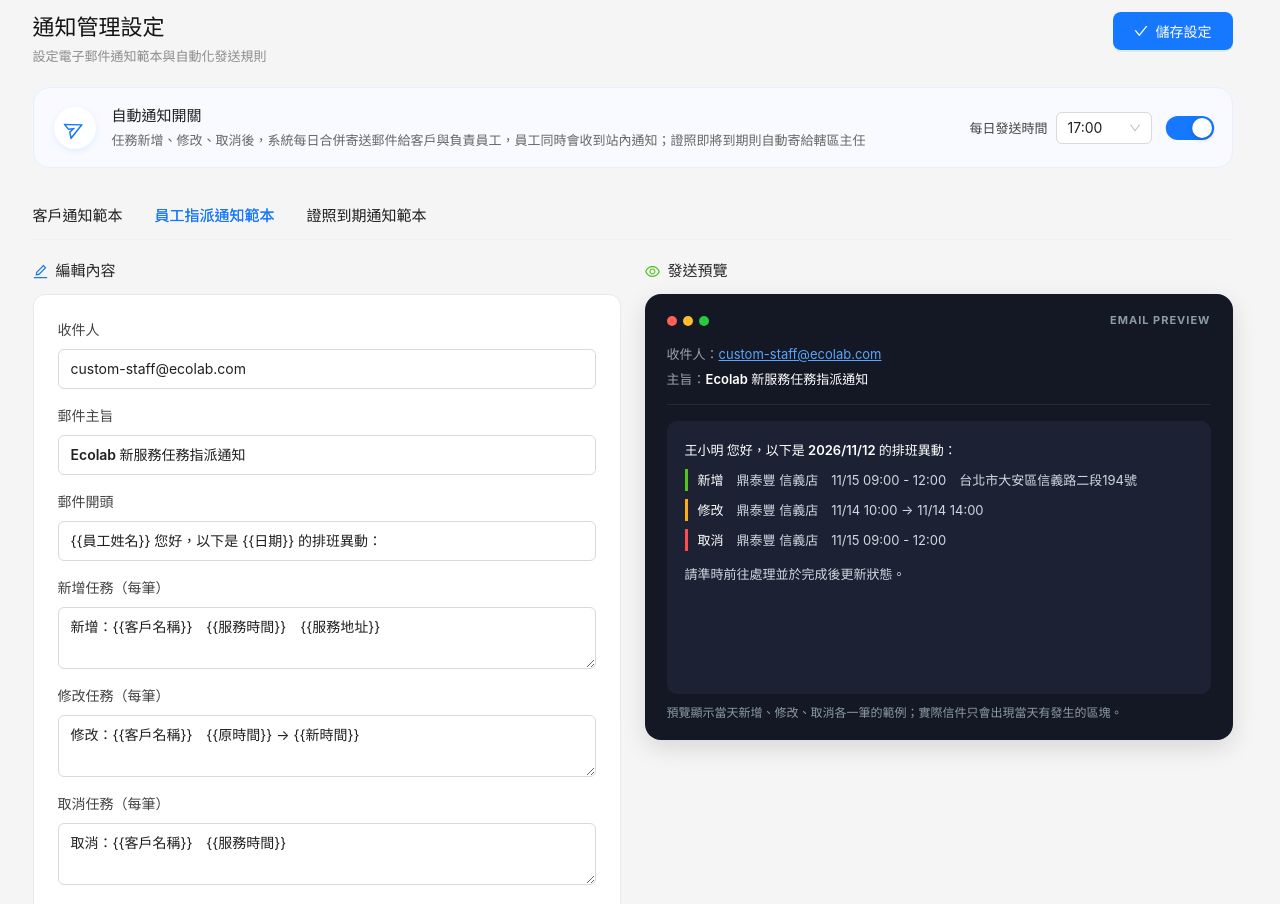
Test: NotificationPage - 通知管理設定 › license tab: recipient is fixed (auto to region leader) and shows license preview
The image size is (1280, 904).
Click the tab "證照到期通知範本".
click(366, 216)  # box x1=306 y1=204 x2=426 y2=228
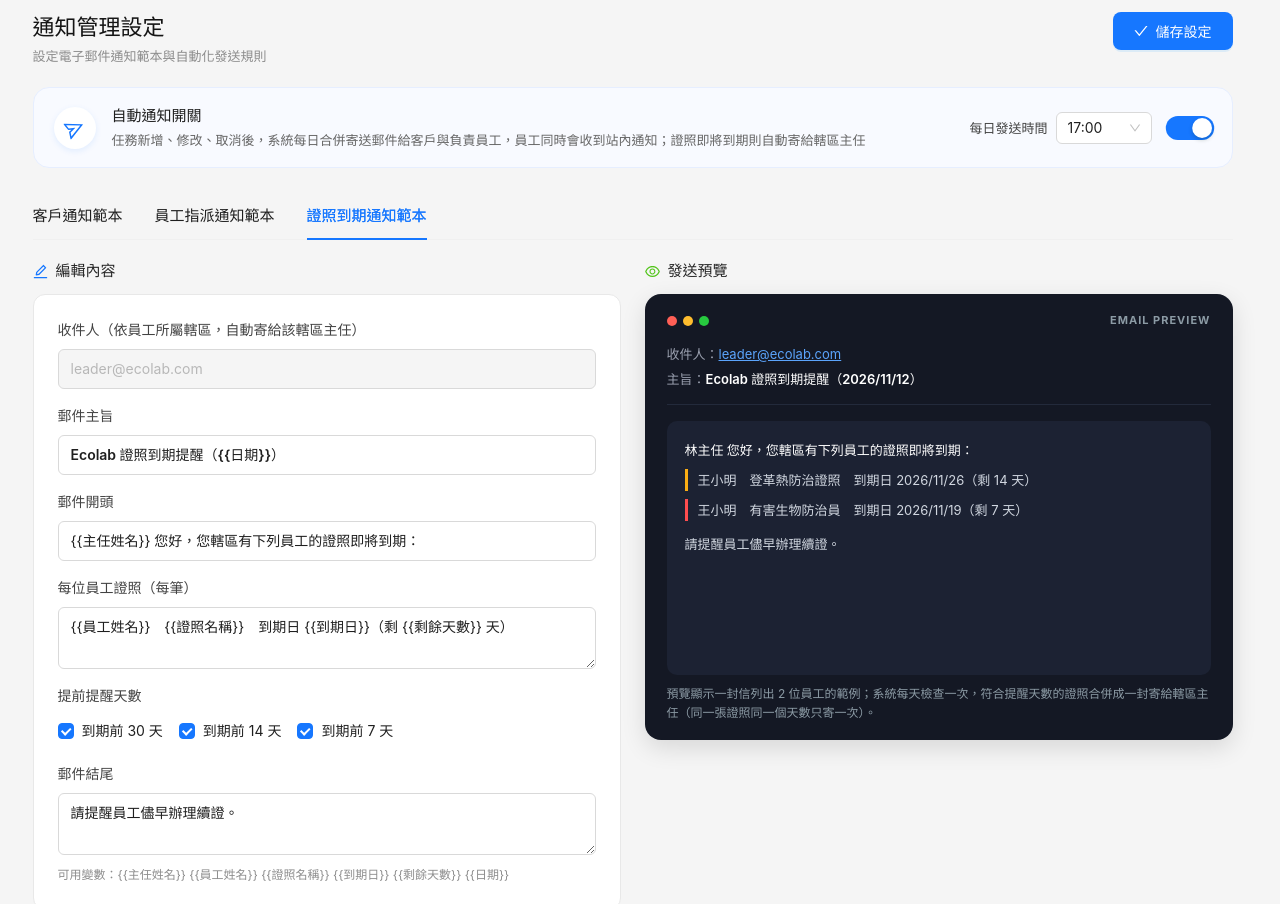
Now the field with test id "recipient-input" is disabled, box x1=58 y1=349 x2=596 y2=389
Now the text box with test id "license-item-input" is shown, box x1=58 y1=607 x2=596 y2=669
Now the text box with test id "created-input" is gone
